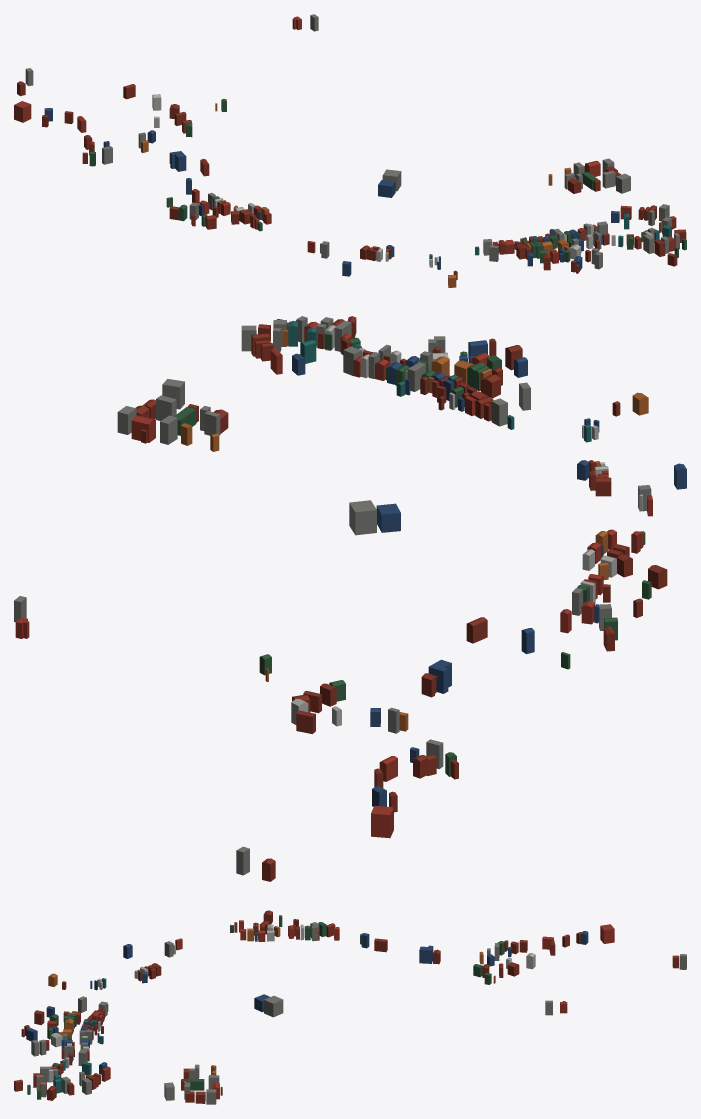
Rendered from near-15-27349-14860.2b211ea6.glb.
3 views of the same model, one above another, from view 1: azimuth 30°, elevation 25°; view 2: azimuth 150°, elevation 25°; view 3: azimuth 270°, elevation 25° (orthographic). The views are drawn at different scales.
Size of the model in its own units: 670 by 122 by 1088.
